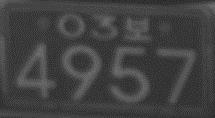0: (56, 13, 86, 39)
3: (89, 11, 117, 41)
4: (14, 41, 56, 99)
5: (109, 45, 150, 103)
7: (154, 47, 196, 105)
9: (60, 43, 103, 100)
보: (122, 15, 151, 42)
